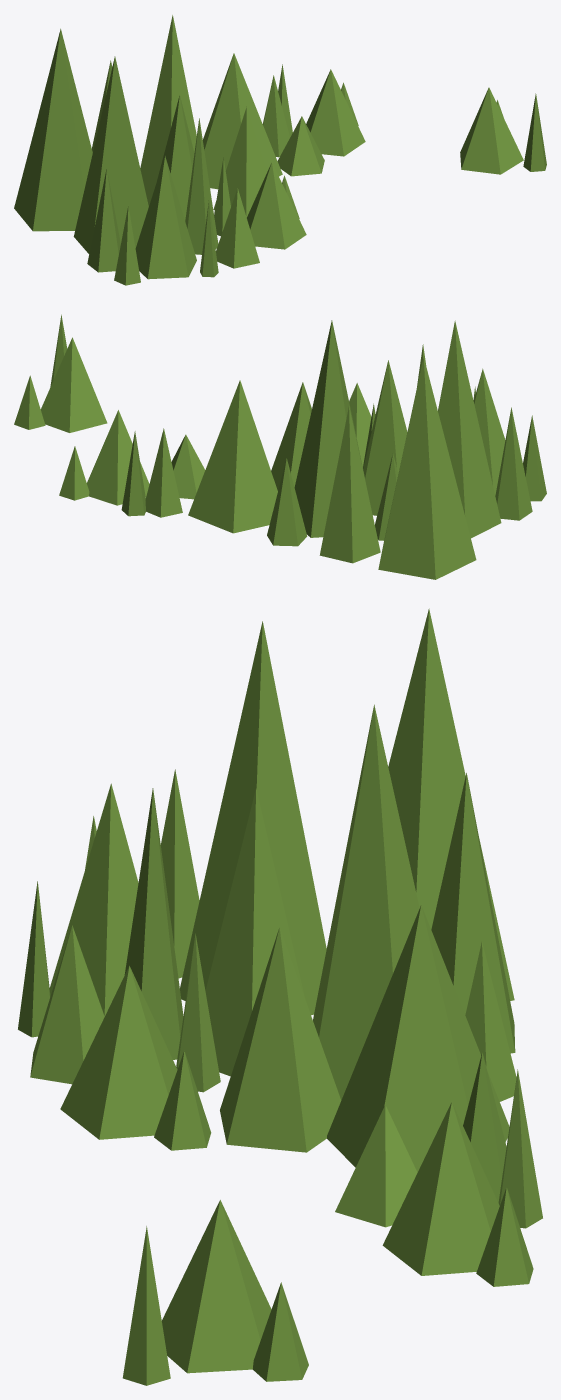
File: tileset_trees.fbx
3 renders of one model, top to bottom at view 1: azimuth 30°, elevation 25°; view 2: azimuth 150°, elevation 25°; view 3: azimuth 270°, elevation 25°, orthographic. The views are drawn at different scales.
Visible parts, largest first — view 1: trees_flat, trees_line, trees_in, trees_saddle, trees_out; view 2: trees_flat, trees_in, trees_saddle, trees_line, trees_out; view 3: trees_flat, trees_in, trees_saddle, trees_line, trees_out.
Part boxes in pixels (x1,y1,x2,y2): trees_flat: (14, 15, 196, 253); trees_line: (87, 118, 259, 285); trees_in: (203, 53, 324, 217); trees_saddle: (278, 64, 546, 174); trees_out: (214, 157, 306, 249); trees_flat: (267, 320, 501, 579); trees_in: (145, 380, 311, 533); trees_saddle: (14, 314, 149, 516); trees_line: (417, 344, 546, 520); trees_out: (349, 383, 375, 468); trees_flat: (180, 608, 516, 1101); trees_in: (220, 905, 509, 1227); trees_saddle: (122, 1069, 542, 1385); trees_line: (18, 769, 199, 1084); trees_out: (60, 933, 220, 1150).
Bounding box in the file's own units: 16.26 × 6.37 × 8.15.
